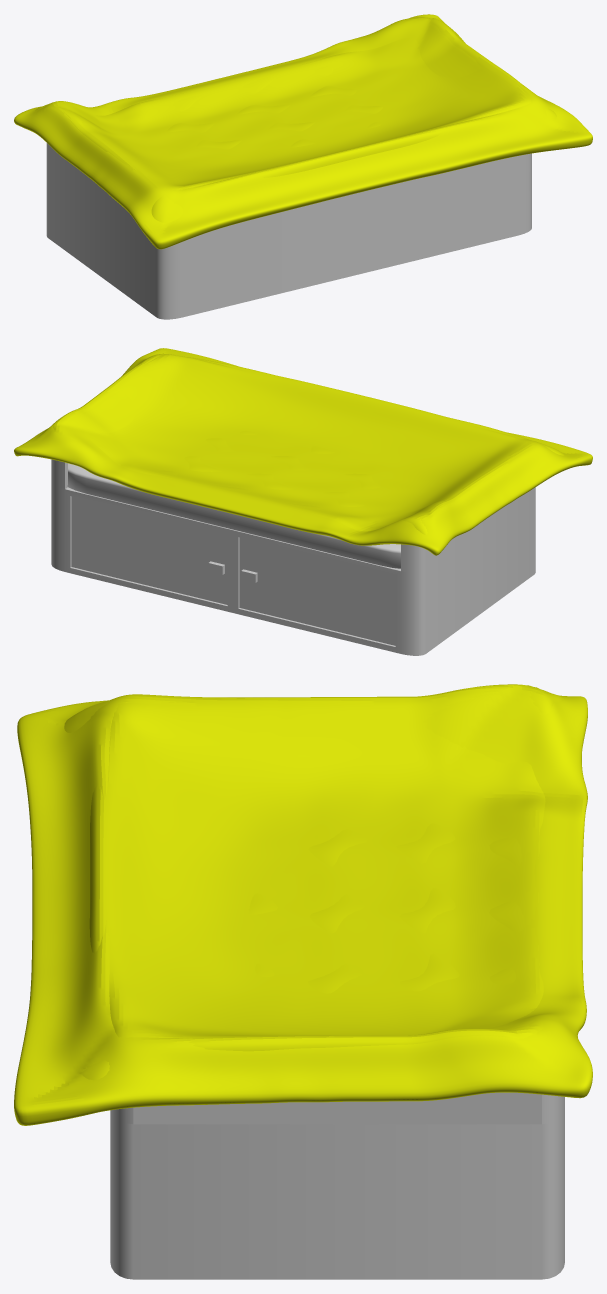
The model's file is Кровать.fbx.
The picture shows the model from 3 angles, top to bottom: view 1: azimuth 30°, elevation 25°; view 2: azimuth 150°, elevation 25°; view 3: azimuth 270°, elevation 25°; orthographic projection. The views are drawn at different scales.
Visible parts, largest first — view 1: Cube.017; view 2: Cube.017; view 3: Cube.017.
Boxes of the visible parts, x1,y1,x2,y2 form: Cube.017: (14, 14, 592, 319); Cube.017: (14, 348, 592, 655); Cube.017: (14, 684, 592, 1279).
Bounding box in the file's own units: 872 × 258 × 533.
